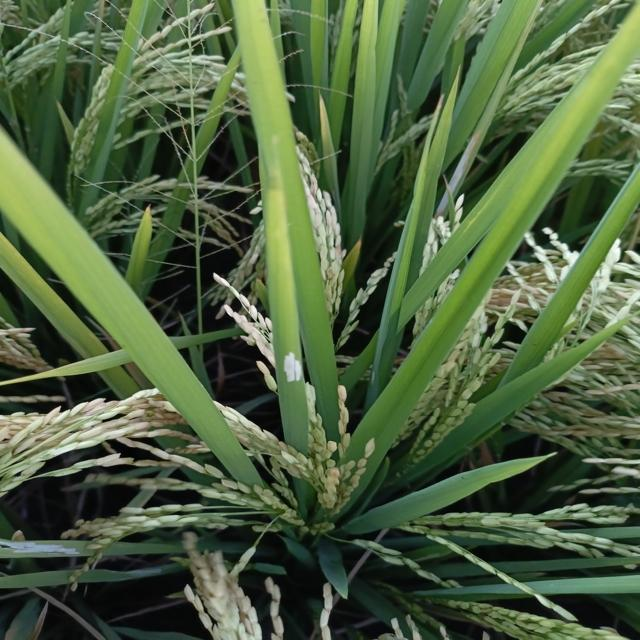brown plant hopper: (272, 344, 317, 392)
